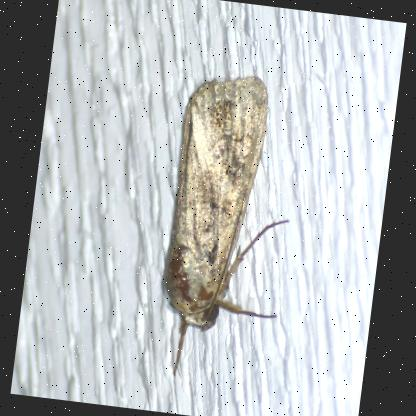Fall Armyworm Moth: (146, 64, 308, 392)
